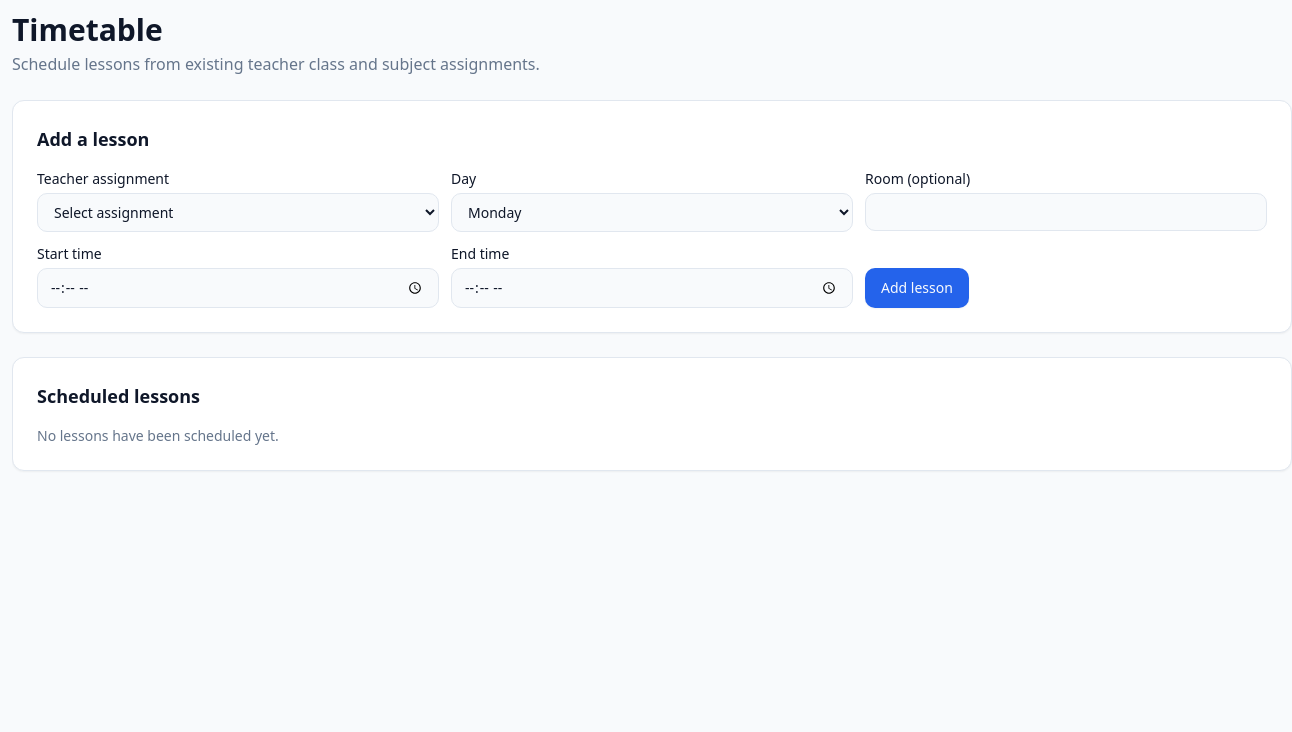
Scenario: ManagerTimetablePage › successful lesson creation sends expected payload and shows success
Expected: the button "Add lesson" is shown, left=865, top=268, right=969, bottom=308
Select "jastine john · form 1 / A · kiswahili · 2025/26" in the dropdown labelled "Teacher assignment" at (238, 212), box left=37, top=193, right=439, bottom=232
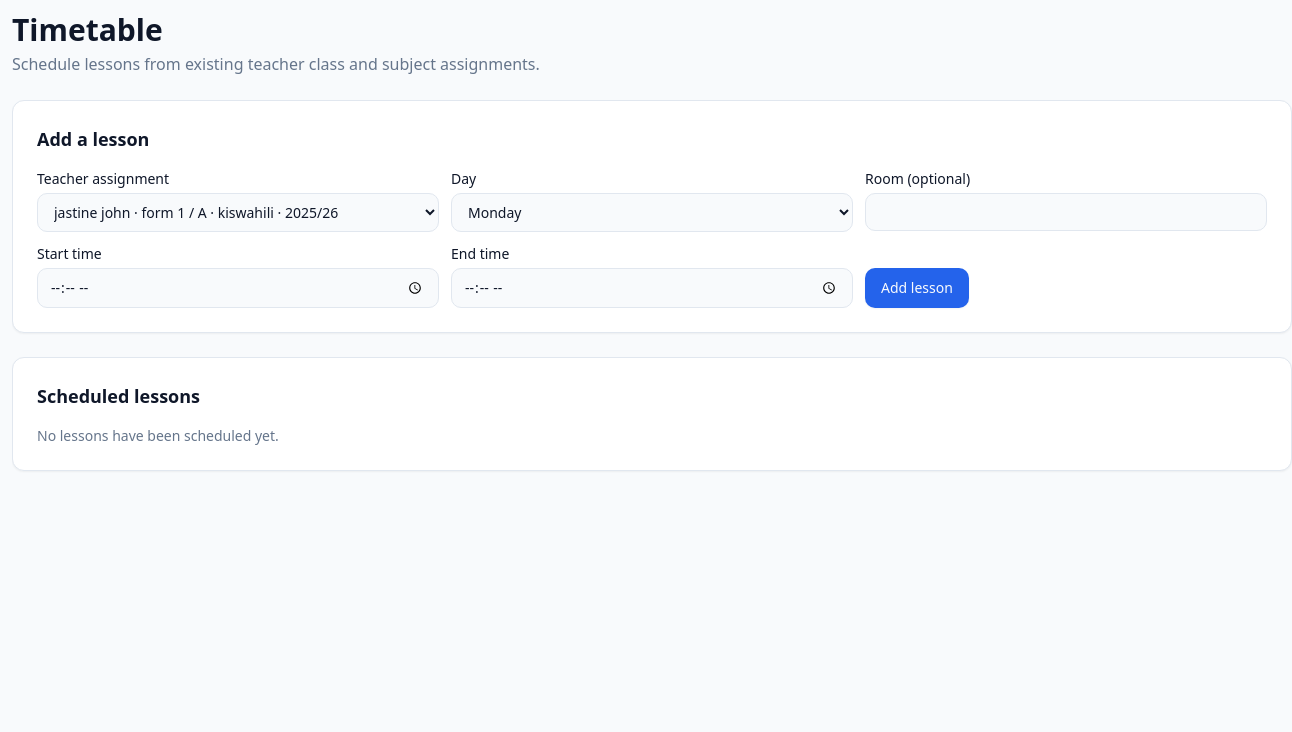
Type "04:54" into the time field labelled "Start time" at (238, 288), box left=37, top=268, right=439, bottom=308
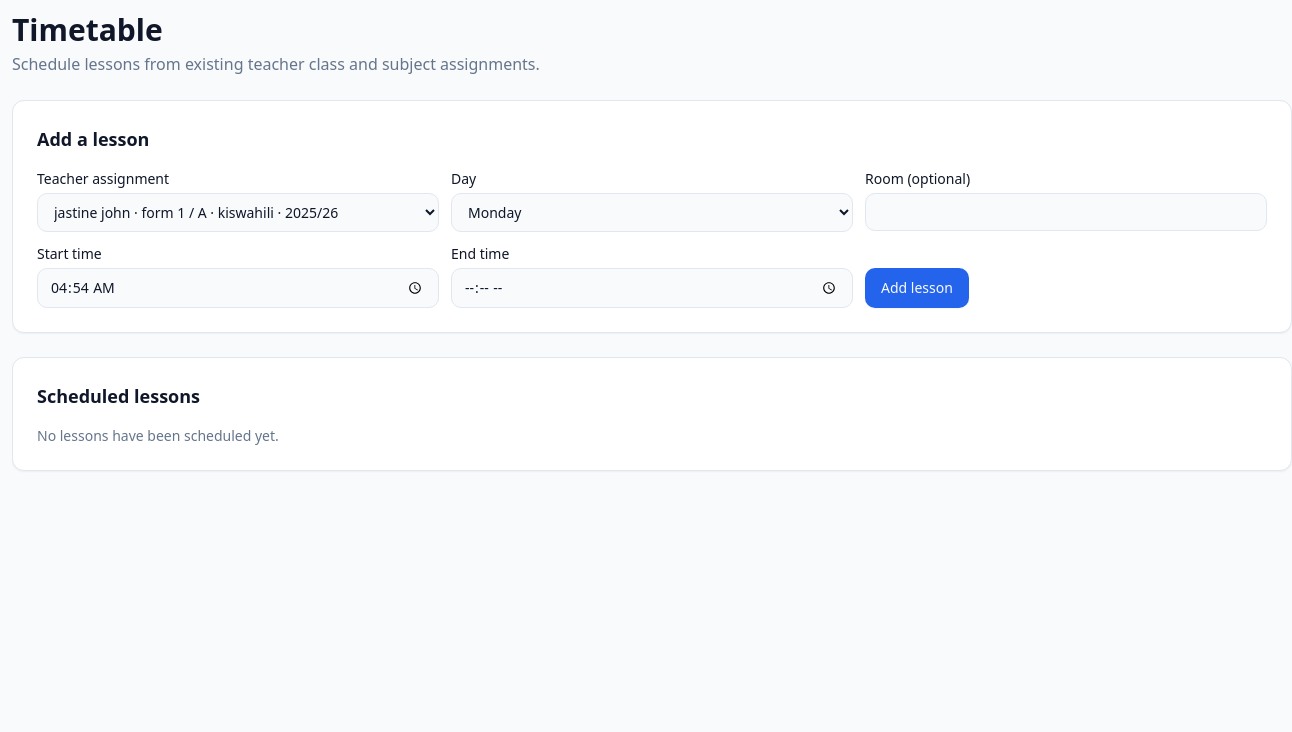
Type "05:22" into the time field labelled "End time" at (652, 288), box left=451, top=268, right=853, bottom=308
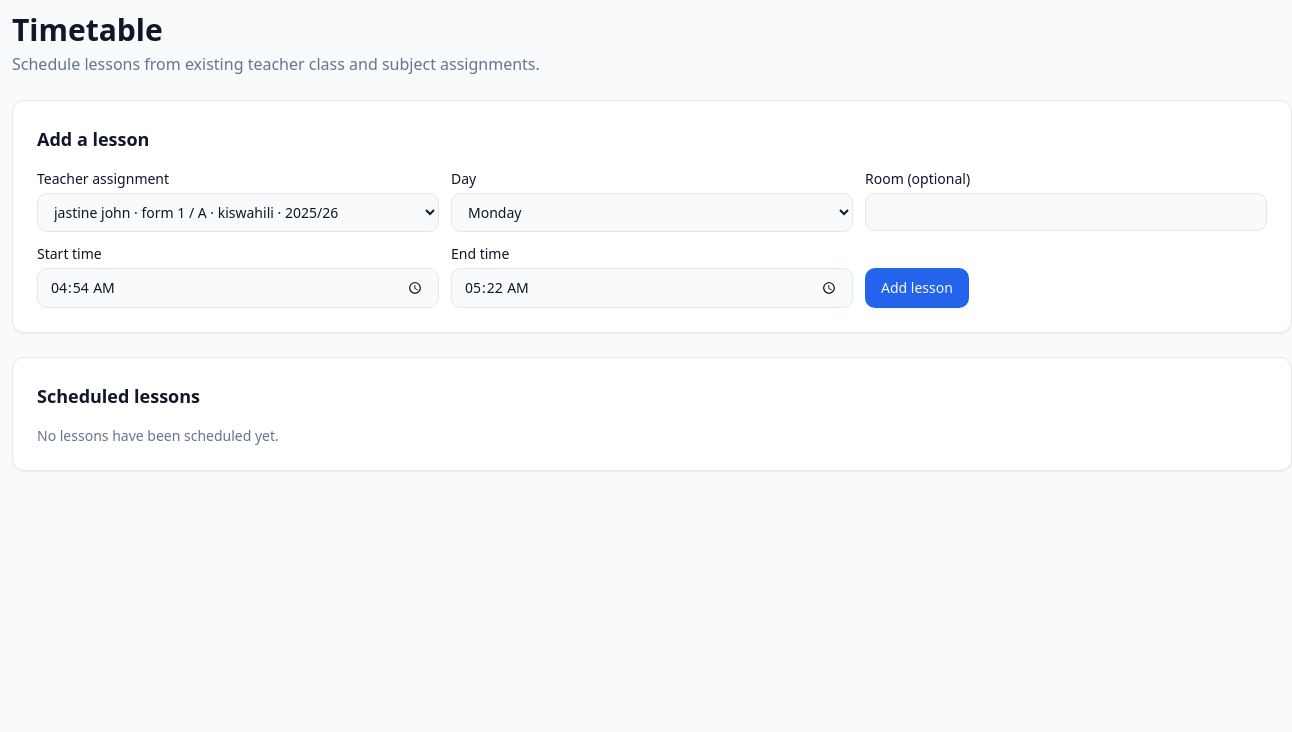
Submit the form "Teacher assignment", box left=37, top=169, right=1267, bottom=308
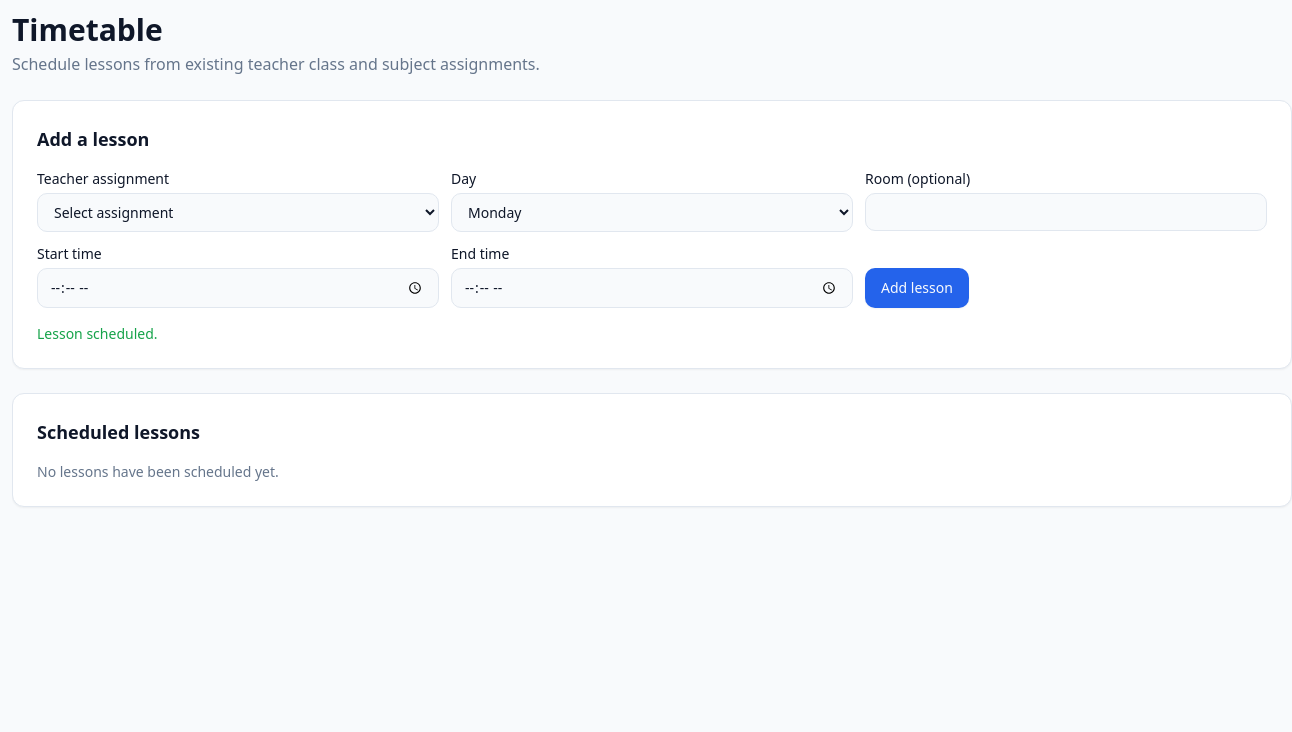
Expected: the text "Lesson scheduled." is shown, left=37, top=324, right=158, bottom=343
